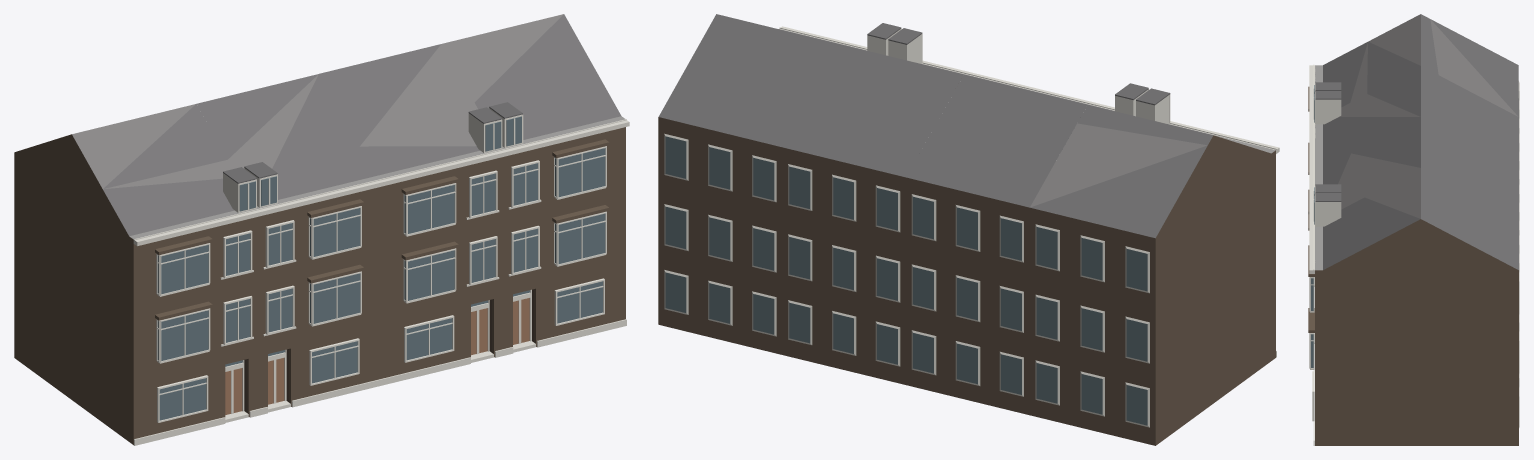
File: chunk-face-treslong-21-35-a.glb
3 renders of one model, left to right at view 1: azimuth 30°, elevation 25°; view 2: azimuth 150°, elevation 25°; view 3: azimuth 270°, elevation 25°, orthographic. The views are drawn at different scales.
Visible parts, largest first — view 1: face-treslong-21-35-a; view 2: face-treslong-21-35-a; view 3: face-treslong-21-35-a.
Part boxes in pixels (x1=…): face-treslong-21-35-a: x1=14, y1=14, x2=629, y2=445; face-treslong-21-35-a: x1=658, y1=14, x2=1279, y2=445; face-treslong-21-35-a: x1=1308, y1=14, x2=1519, y2=445.
Size of the model in its own units: 24.9 by 12.85 by 10.85.
